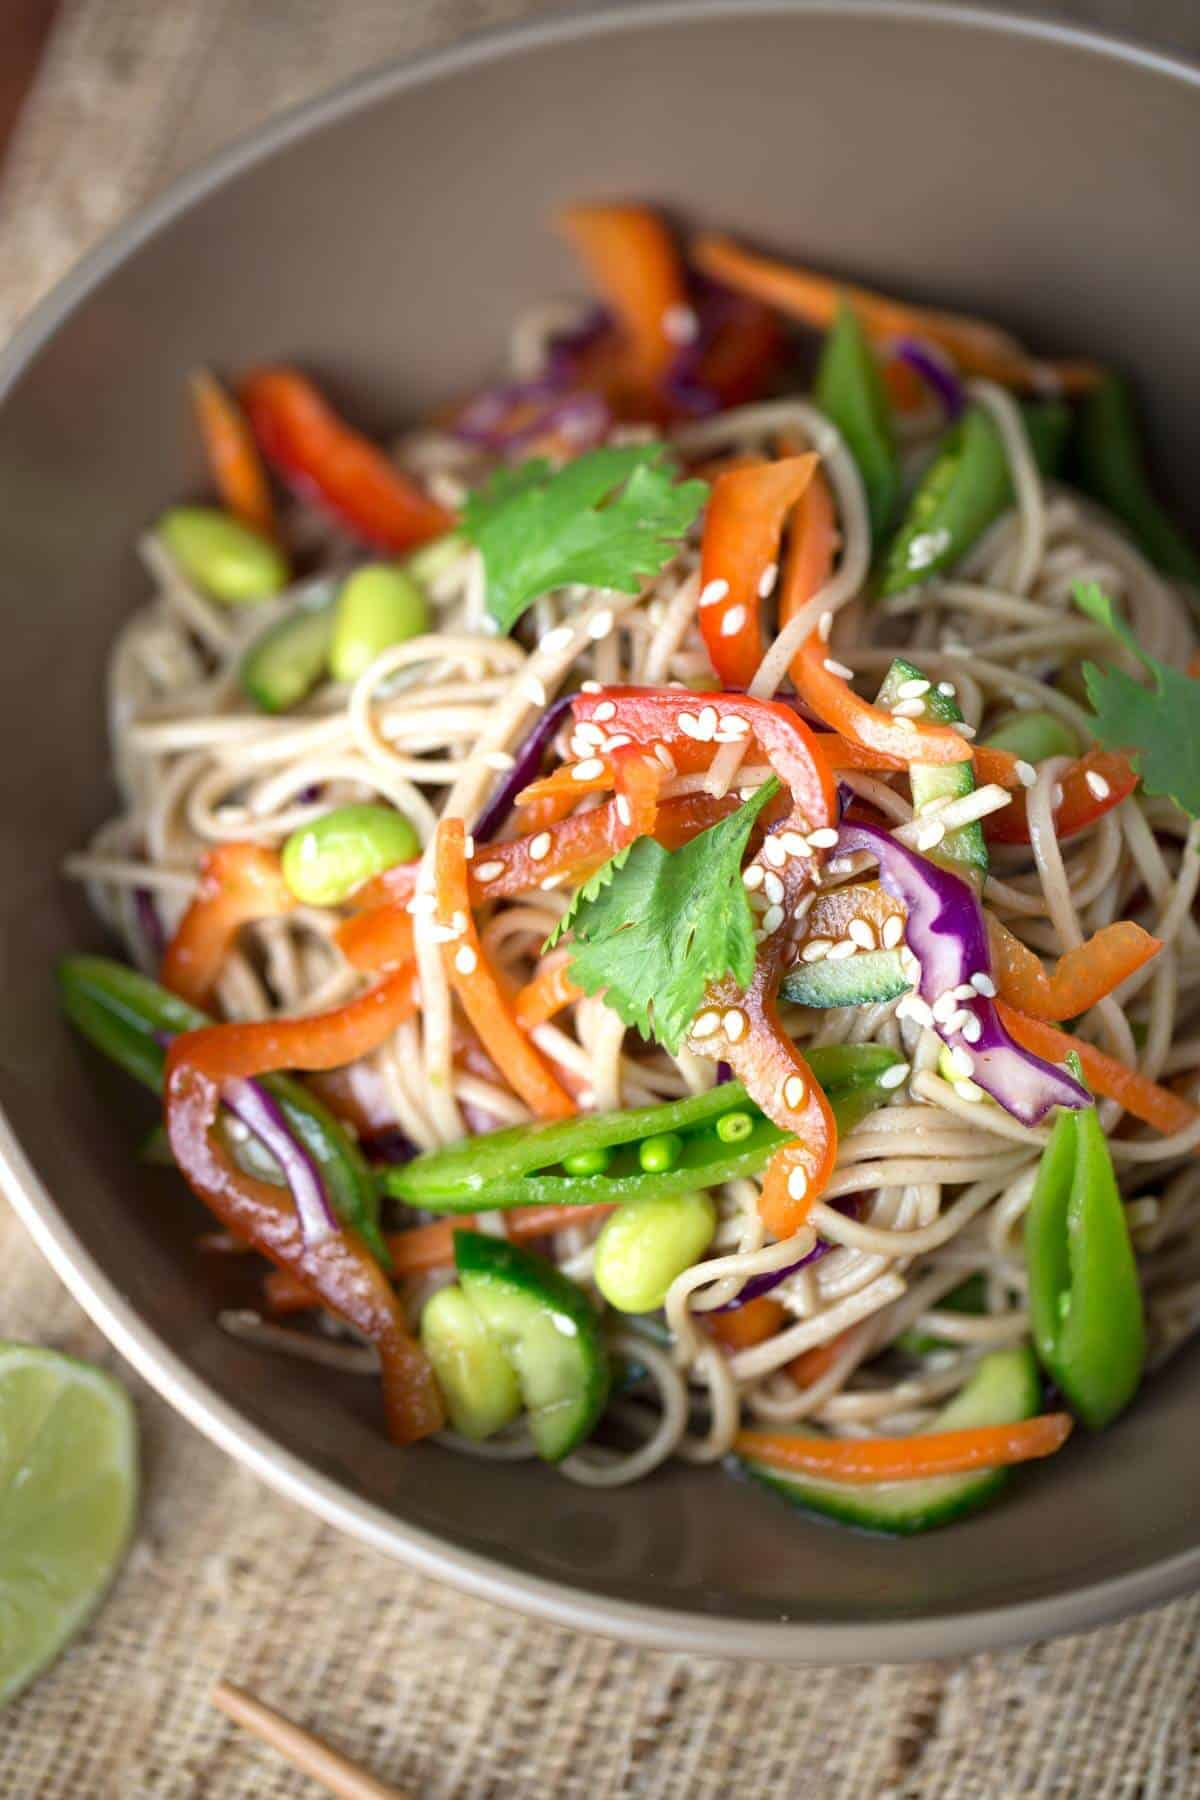Soba: (66, 299, 1200, 1483)
